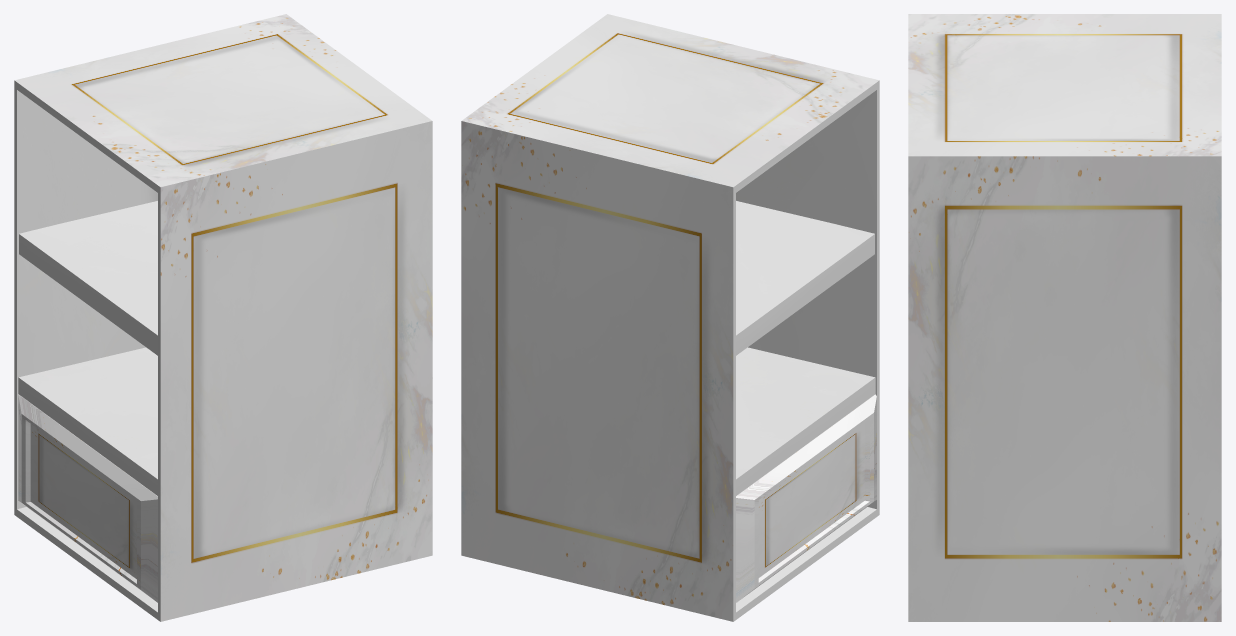
File: Estante1.obj
3 renders of one model, left to right at view 1: azimuth 30°, elevation 25°; view 2: azimuth 150°, elevation 25°; view 3: azimuth 270°, elevation 25°, orthographic. The views are drawn at different scales.
Parts seen in each view (by area): view 1: Estante1; view 2: Estante1; view 3: Estante1.
Boxes of the visible parts, bbox=[...] form: Estante1: bbox=[14, 14, 432, 621]; Estante1: bbox=[461, 14, 879, 621]; Estante1: bbox=[908, 14, 1221, 621].
Bounding box in the file's own units: 4.33 × 6.45 × 3.93.
Materials: 1 (1 with a texture image).
